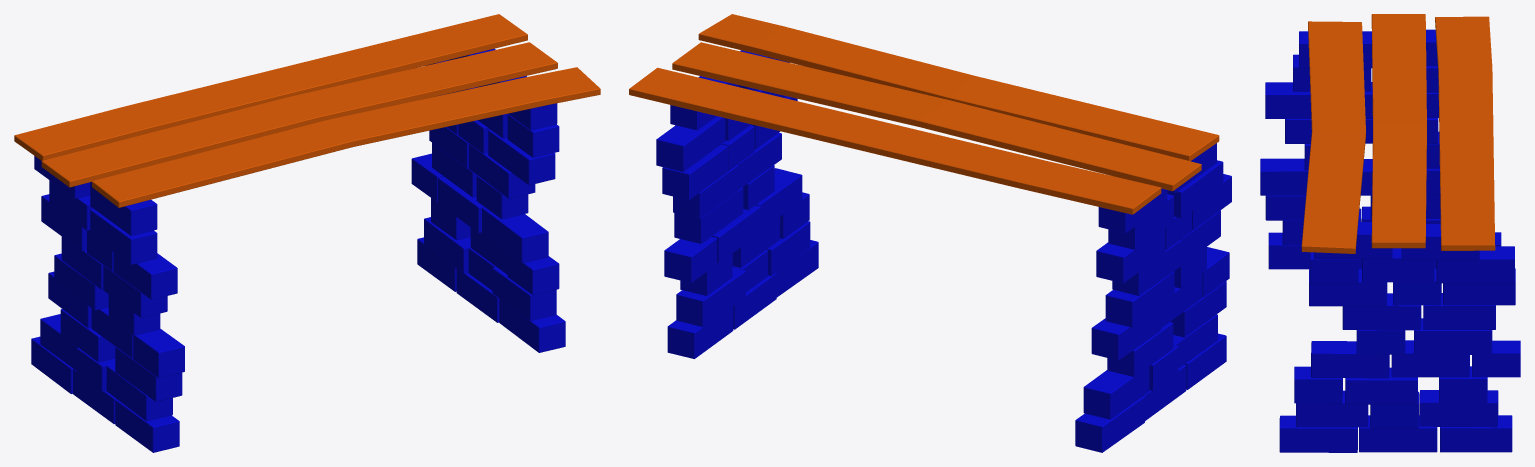
Rendered from Food_Container_Lvl01.fbx.
3 renders of one model, left to right at view 1: azimuth 30°, elevation 25°; view 2: azimuth 150°, elevation 25°; view 3: azimuth 270°, elevation 25°, orthographic. The views are drawn at different scales.
Parts seen in each view (by area): view 1: Food_Container_01; view 2: Food_Container_01; view 3: Food_Container_01.
Part boxes in pixels (x1,y1,x2,y2): Food_Container_01: (14, 14, 600, 452); Food_Container_01: (629, 14, 1231, 452); Food_Container_01: (1260, 14, 1520, 452).
Size of the model in its own units: 231 by 107 by 109.
